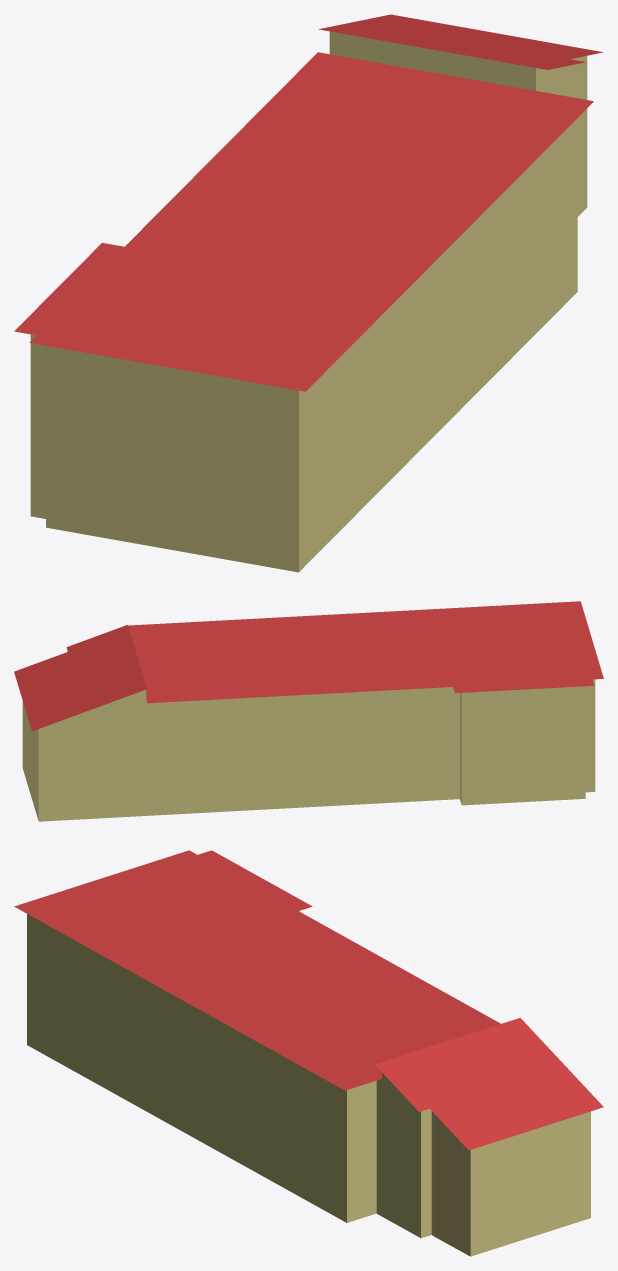
The picture shows the model from 3 angles, top to bottom: view 1: azimuth 30°, elevation 25°; view 2: azimuth 150°, elevation 25°; view 3: azimuth 270°, elevation 25°; orthographic projection. The views are drawn at different scales.
Bounding box in the file's own units: 34.82 × 31.67 × 9.16.
